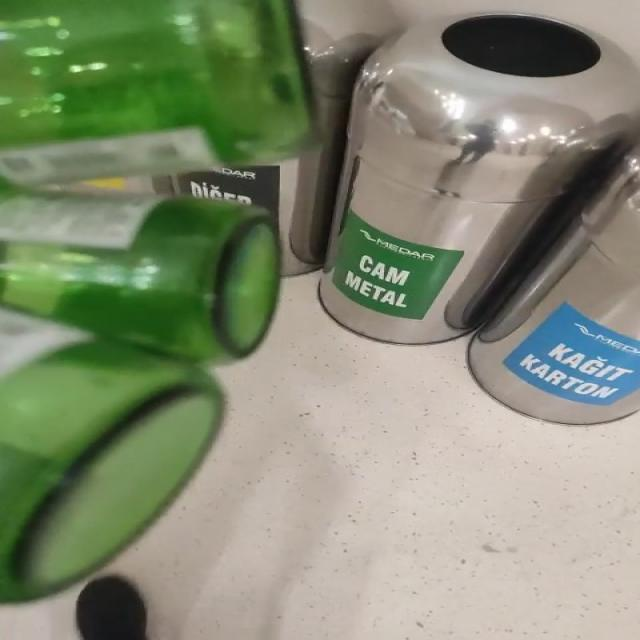Glass: (0, 0, 311, 603)
